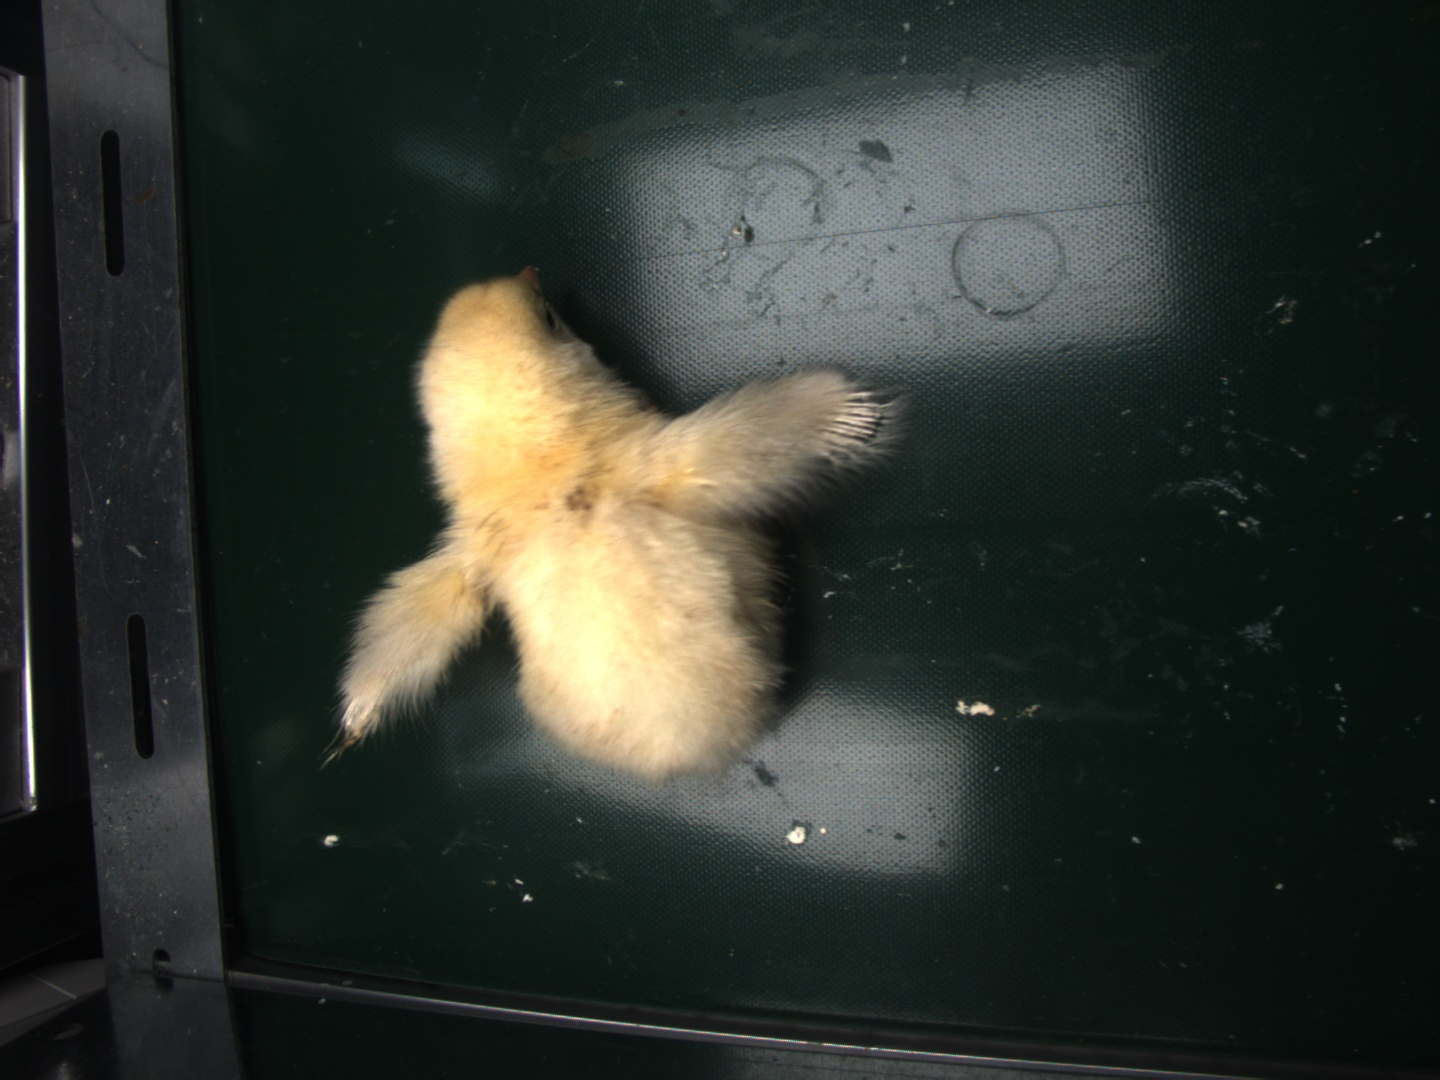male: (821, 380, 884, 457)
